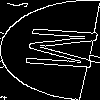M: (24, 25, 100, 72)
